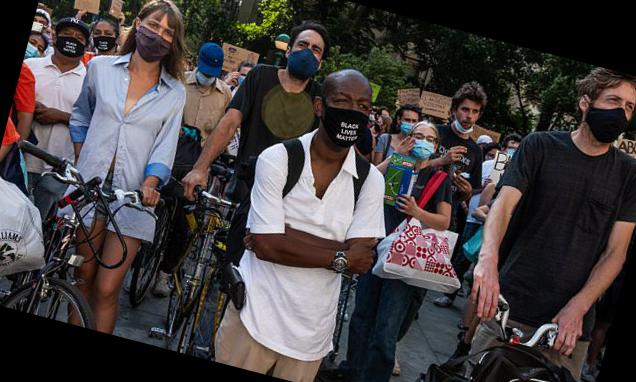mask_weared_incorrect: (453, 102, 481, 137)
with_mask: (323, 84, 373, 137), (594, 88, 636, 138), (134, 15, 180, 57), (290, 35, 326, 72), (54, 29, 89, 56), (89, 22, 117, 49), (412, 129, 438, 155), (194, 68, 221, 87), (26, 39, 47, 59), (401, 113, 419, 132), (370, 117, 387, 136), (238, 69, 250, 84)
